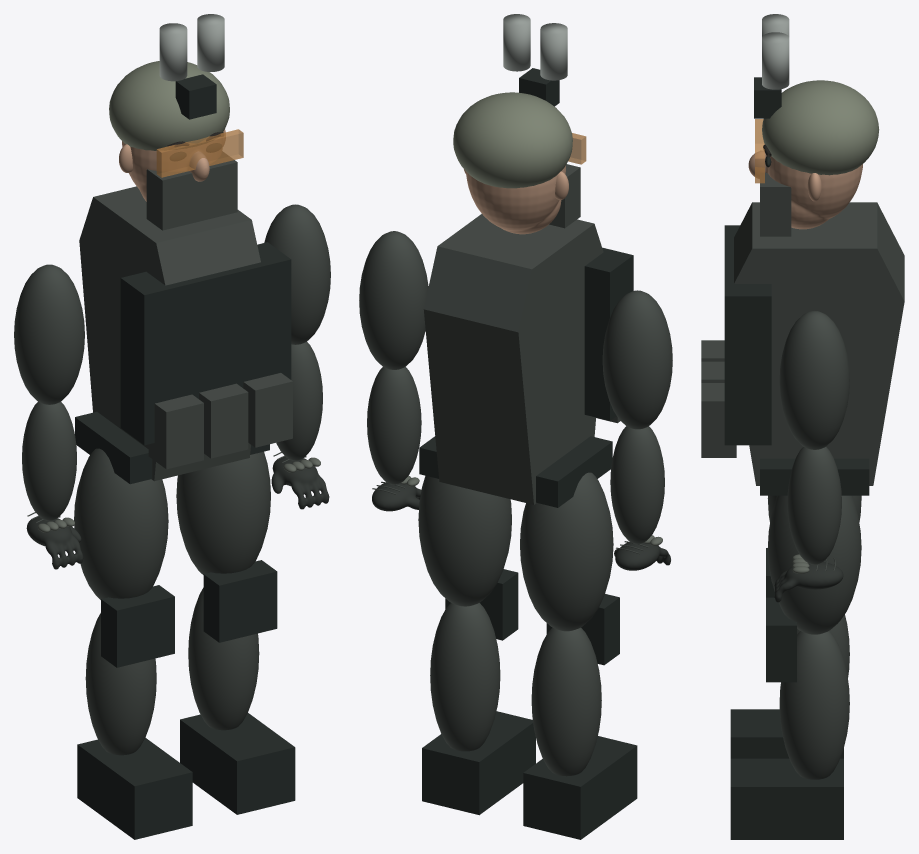
File: vyron.glb
The picture shows the model from 3 angles, left to right: view 1: azimuth 30°, elevation 25°; view 2: azimuth 150°, elevation 25°; view 3: azimuth 270°, elevation 25°; orthographic projection.
Parts seen in each view (by area): view 1: PlateCarrier, TorsoArmor, Thigh, Thigh.001, Boot, Boot.001, UpperArm, Helmet, Shin.001, Shin, UpperArm.001, Forearm (+15 smaller); view 2: TorsoArmor, Thigh, Thigh.001, Helmet, Shin.001, Shin, Boot, UpperArm, Boot.001, UpperArm.001, Forearm.001, Forearm (+11 smaller); view 3: TorsoArmor, Helmet, Boot.001, PlateCarrier, Shin.001, UpperArm.001, Thigh.001, Forearm.001, Face, Boot, Belt, KneePad.001 (+10 smaller).
Part boxes in pixels (box(x1,y1,x2,y2)): PlateCarrier: box(120, 242, 291, 445); TorsoArmor: box(79, 186, 260, 481); Thigh: box(74, 448, 168, 599); Thigh.001: box(176, 451, 270, 574); Boot: box(77, 738, 192, 839); Boot.001: box(180, 713, 295, 814); UpperArm: box(14, 264, 84, 404); Helmet: box(109, 61, 229, 150); Shin.001: box(188, 587, 259, 730); Shin: box(85, 613, 156, 755); UpperArm.001: box(264, 204, 330, 344); Forearm: box(22, 401, 76, 520); TorsoArmor: box(423, 214, 603, 504); Thigh: box(520, 472, 613, 631); Thigh.001: box(418, 475, 511, 606); Helmet: box(453, 92, 572, 188); Shin.001: box(430, 603, 500, 751); Shin: box(531, 627, 601, 776); Boot: box(523, 736, 637, 839); UpperArm: box(602, 290, 672, 429); Boot.001: box(422, 711, 535, 815); UpperArm.001: box(359, 231, 428, 369); Forearm.001: box(367, 367, 421, 484); Forearm: box(610, 426, 664, 544); TorsoArmor: box(734, 202, 904, 485); Helmet: box(762, 80, 879, 175); Boot.001: box(730, 758, 843, 839); PlateCarrier: box(724, 225, 771, 445); Shin.001: box(779, 631, 849, 779); UpperArm.001: box(779, 311, 849, 449); Thigh.001: box(768, 495, 861, 634); Forearm.001: box(787, 447, 841, 564); Face: box(748, 150, 862, 229); Boot: box(730, 709, 843, 758); Belt: box(760, 458, 869, 495); KneePad.001: box(766, 597, 796, 682).
Size of the model in its own units: 0.9 by 2.18 by 0.52.
